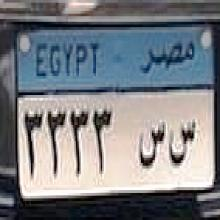3: (45, 105, 69, 184), (69, 100, 90, 188), (91, 100, 114, 179), (22, 107, 44, 180)
seen: (136, 116, 167, 177), (168, 116, 198, 170)
